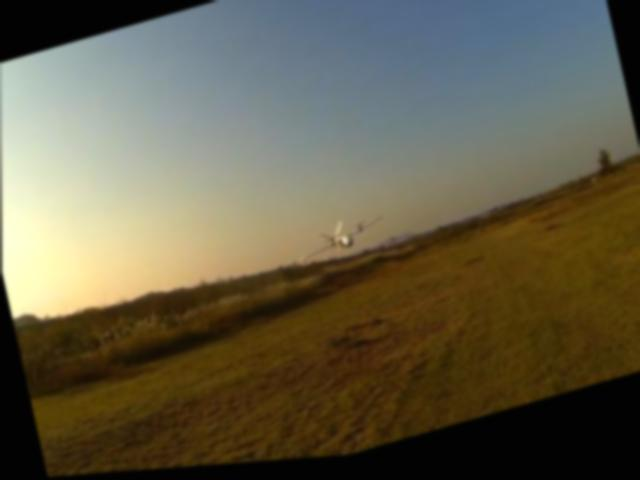uav: (286, 204, 397, 285)
